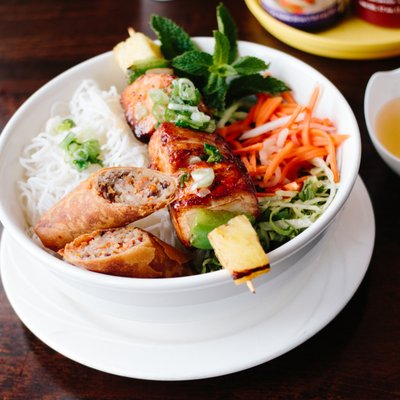sushi: (3, 20, 373, 388), (363, 66, 400, 179)
